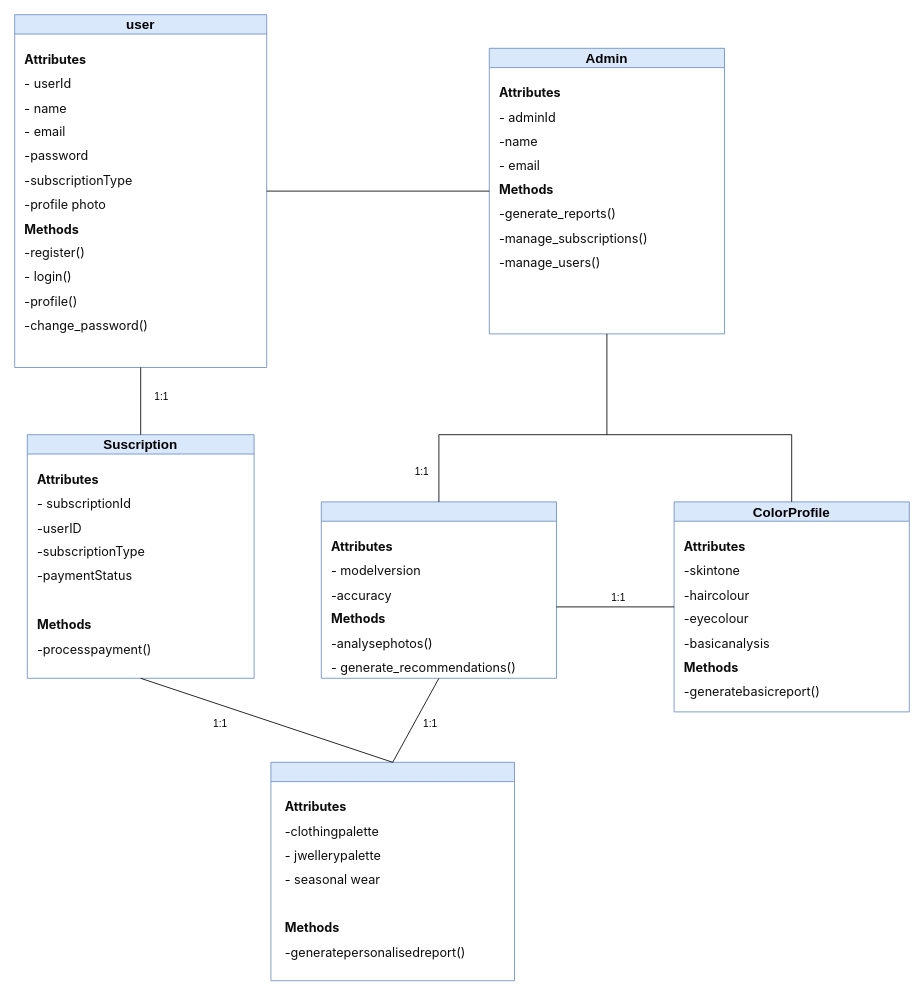
Some shapes in this 924 by 995 pixel diagram are drawn without their labels. Here are the shapes that lost their labels. From the top down, the box of each, then its label:
(320, 501, 556, 678): AIengine
(270, 761, 514, 981): Recommendations
